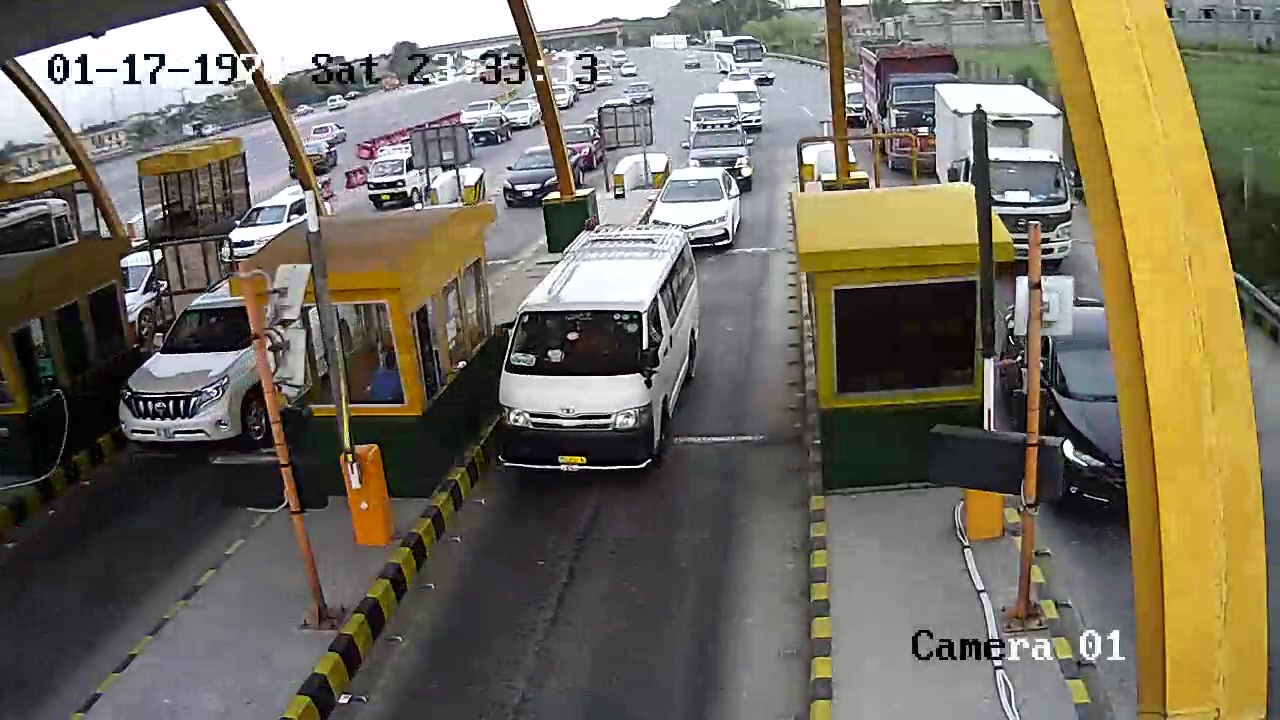F3: (492, 216, 708, 481)
